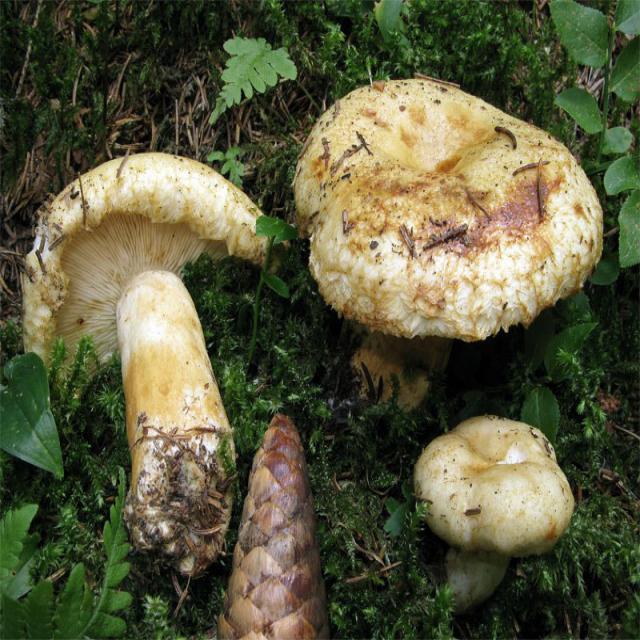Armillaria mellea: (18, 154, 287, 573), (295, 77, 605, 409), (414, 415, 576, 601)
